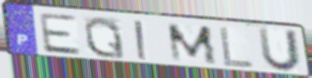E: (37, 12, 84, 57)
I: (132, 19, 150, 62)
L: (218, 25, 256, 69)
M: (165, 23, 220, 66)
Q: (82, 15, 128, 60)
U: (256, 26, 302, 74)
